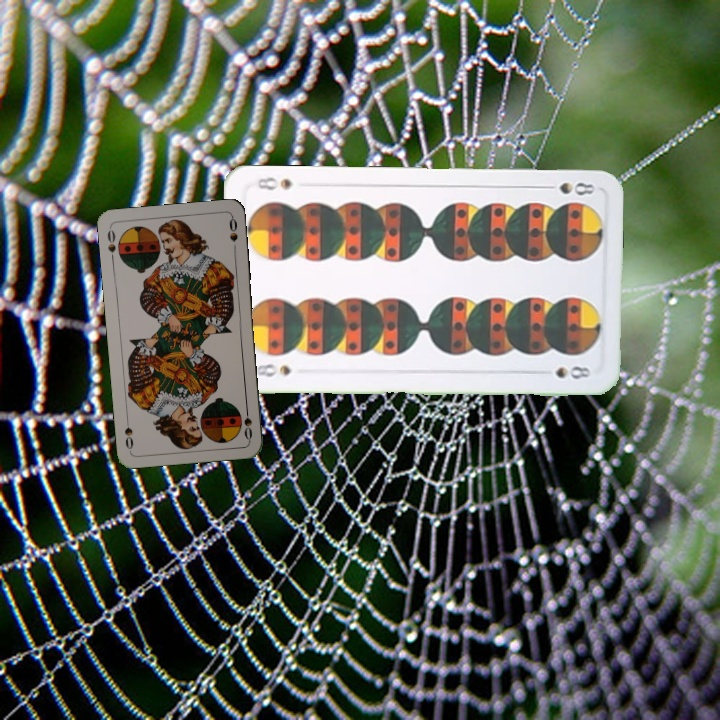S8: (538, 178, 597, 198), (249, 359, 294, 380)
SO: (103, 224, 118, 265), (240, 402, 255, 442)
